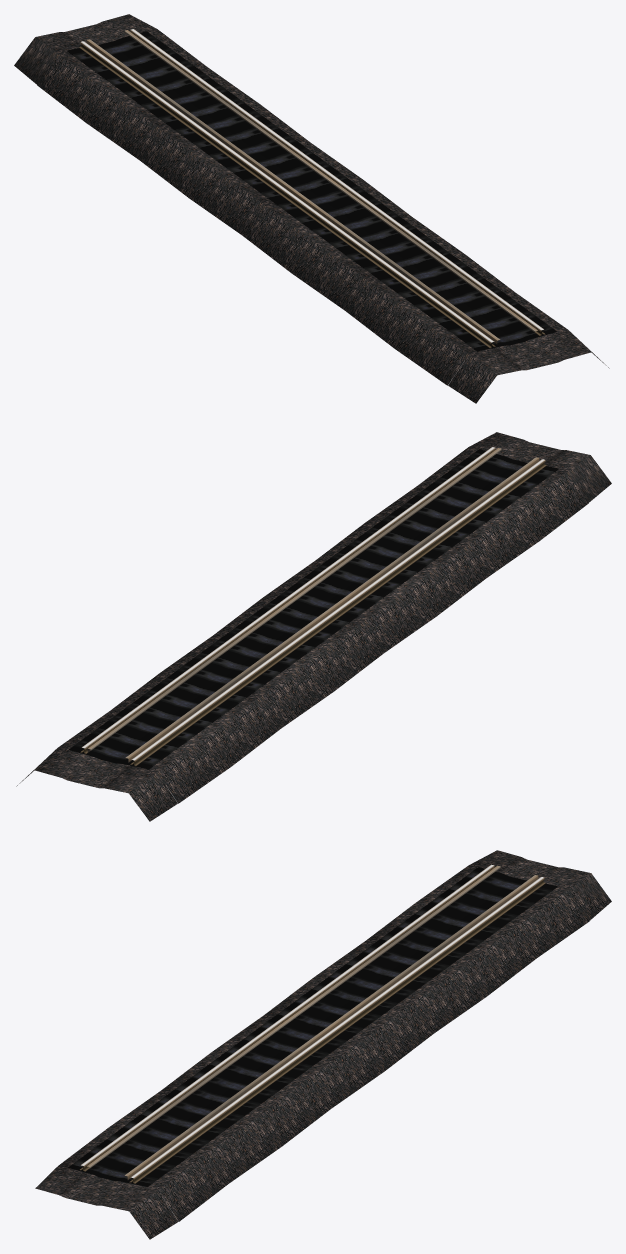
File: MEI_1RAIL_50.glb
3 views of the same model, one above another, from view 1: azimuth 30°, elevation 25°; view 2: azimuth 150°, elevation 25°; view 3: azimuth 330°, elevation 25° (orthographic).
Visible parts, largest first — view 1: obj2, R000_RG_R1, R000_RG_L1; view 2: obj2, R000_RG_R1, R000_RG_L1; view 3: obj2, R000_RG_L1, R000_RG_R1.
Boxes of the visible parts, <box> form: obj2: <box>14,14,609,403</box>; R000_RG_R1: <box>86,39,500,344</box>; R000_RG_L1: <box>124,30,537,332</box>; obj2: <box>16,432,611,821</box>; R000_RG_R1: <box>125,457,539,762</box>; R000_RG_L1: <box>87,448,501,752</box>; obj2: <box>35,850,611,1239</box>; R000_RG_L1: <box>125,875,538,1179</box>; R000_RG_R1: <box>87,865,500,1168</box>.
Size of the model in its own units: 10.12 by 2.22 by 56.25.
Materials: 6 (6 with a texture image).
